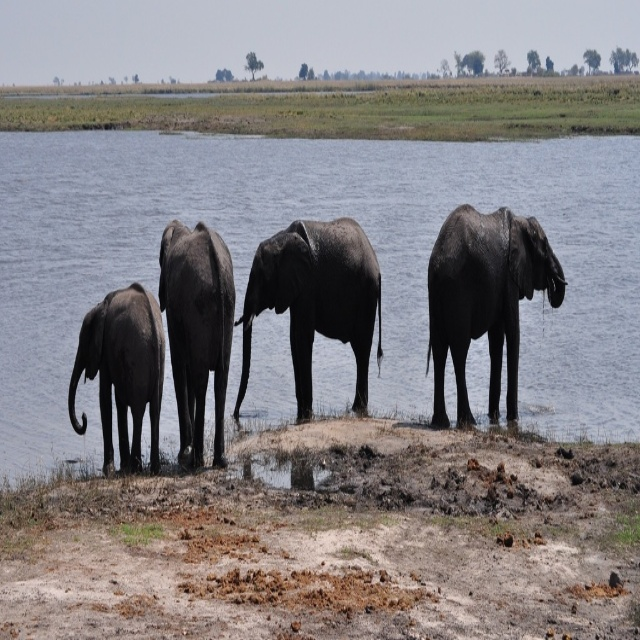Elephant: (233, 216, 383, 432), (429, 206, 564, 446), (154, 215, 238, 468), (66, 271, 166, 470)
